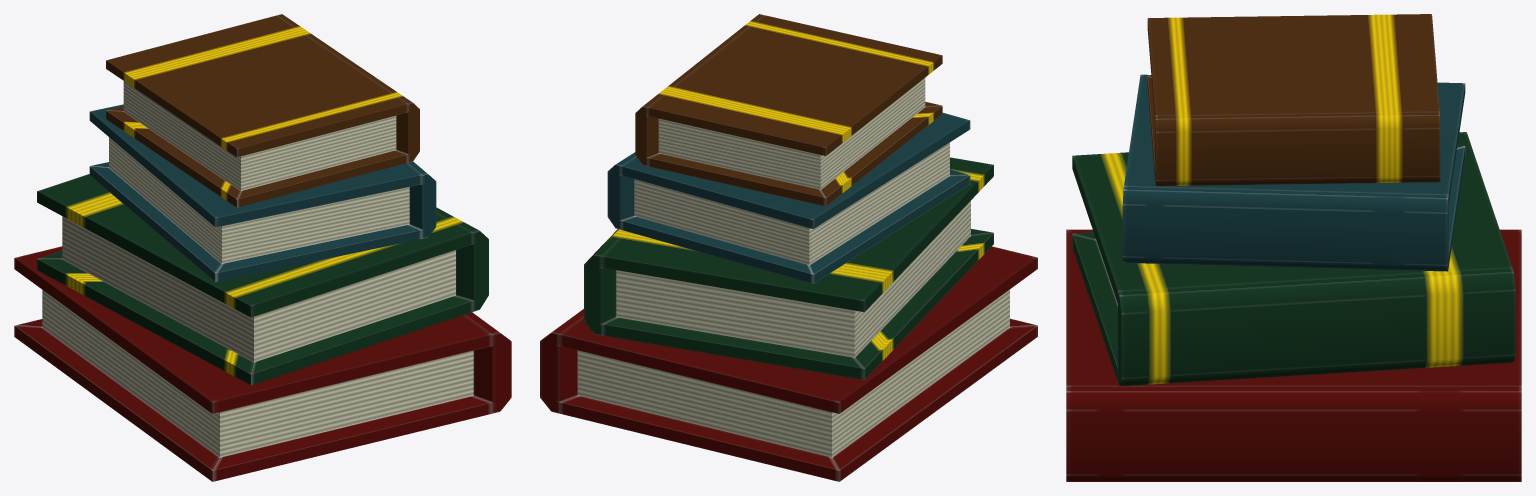
The model's file is bookstack1.fbx.
3 renders of one model, left to right at view 1: azimuth 30°, elevation 25°; view 2: azimuth 150°, elevation 25°; view 3: azimuth 270°, elevation 25°, orthographic. The views are drawn at different scales.
Visible parts, largest first — view 1: book93, book94, book96, book95; view 2: book93, book94, book96, book95; view 3: book94, book93, book96, book95.
Part boxes in pixels (<box>): book93: <box>14,246,511,481</box>; book94: <box>37,174,488,385</box>; book96: <box>106,14,419,207</box>; book95: <box>89,104,436,282</box>; book93: <box>540,246,1037,481</box>; book94: <box>584,157,993,379</box>; book96: <box>635,14,942,206</box>; book95: <box>607,113,970,283</box>; book94: <box>1072,132,1515,386</box>; book93: <box>1066,229,1521,481</box>; book96: <box>1147,14,1440,186</box>; book95: <box>1122,74,1465,271</box>.
Size of the model in its own units: 3.8 by 3.52 by 4.32.
